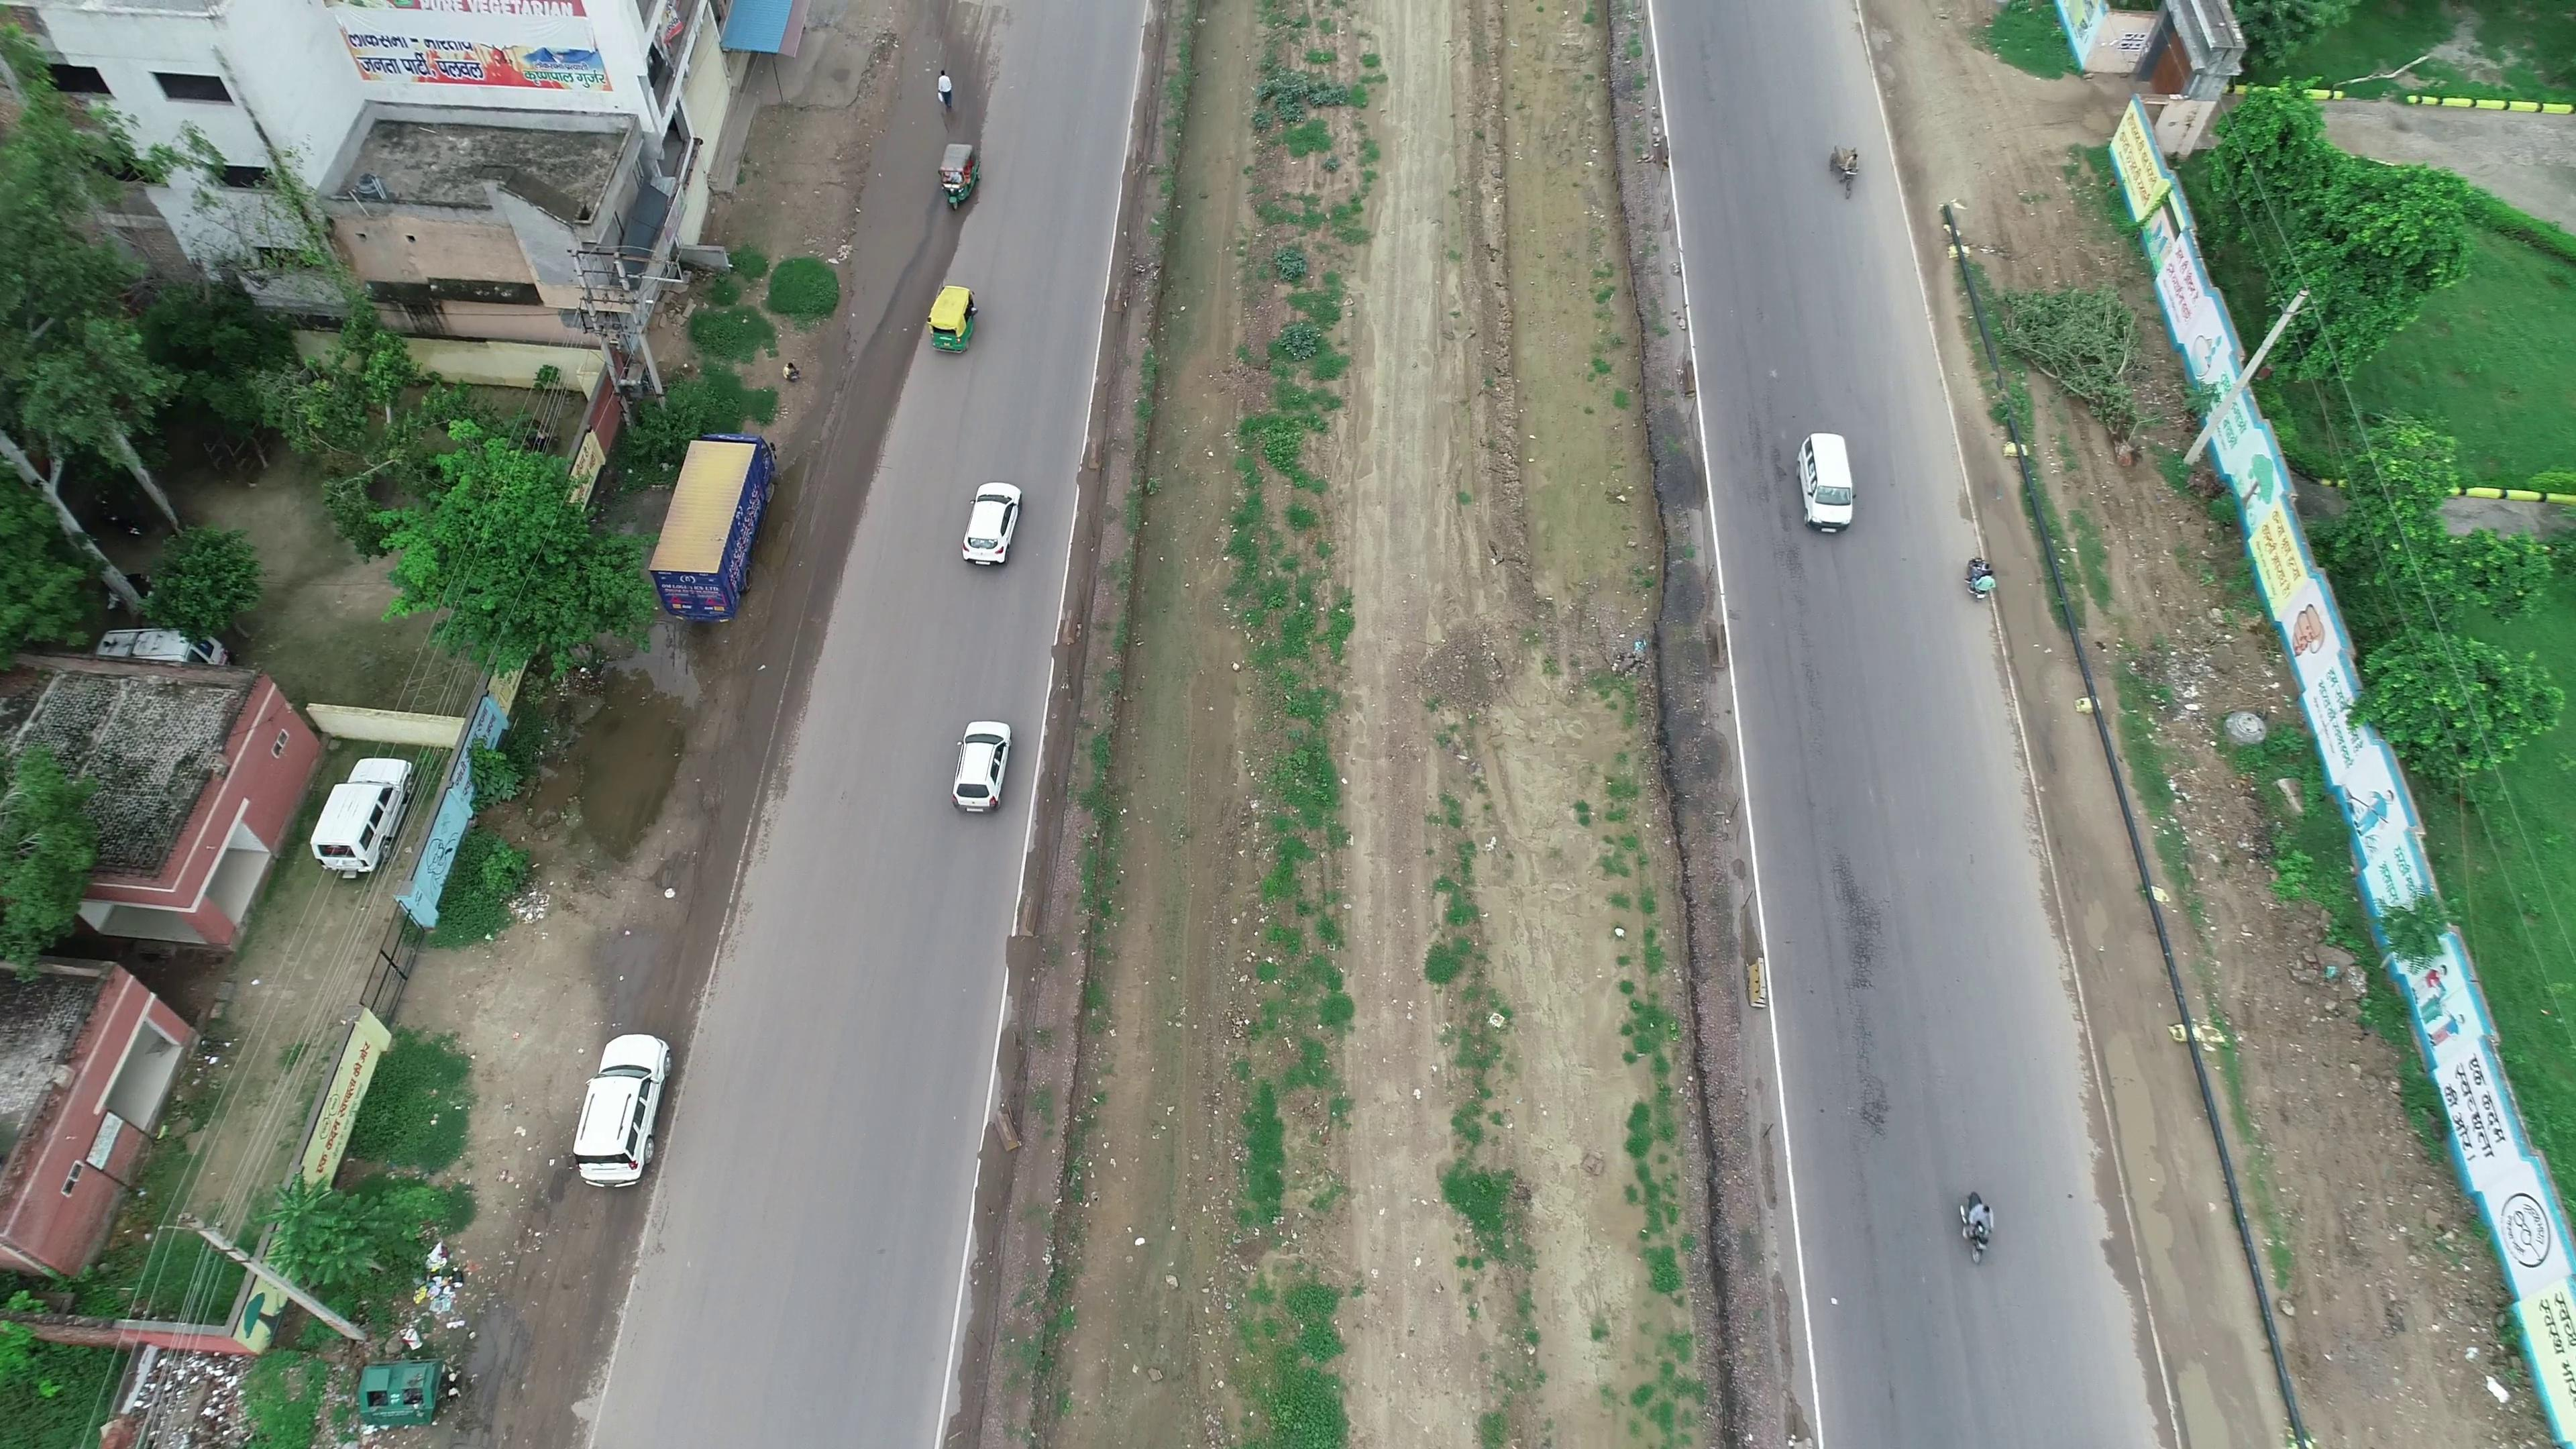Alligator_cracks: (1819, 847, 1902, 1141)
